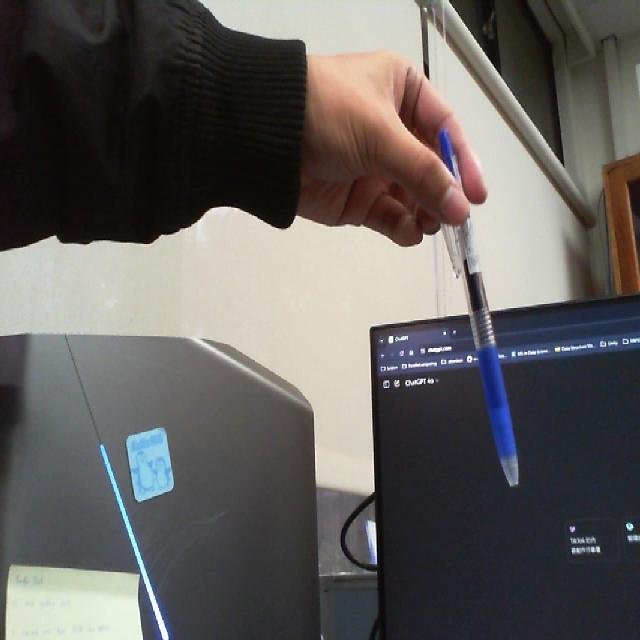Pen: (424, 117, 530, 500)
